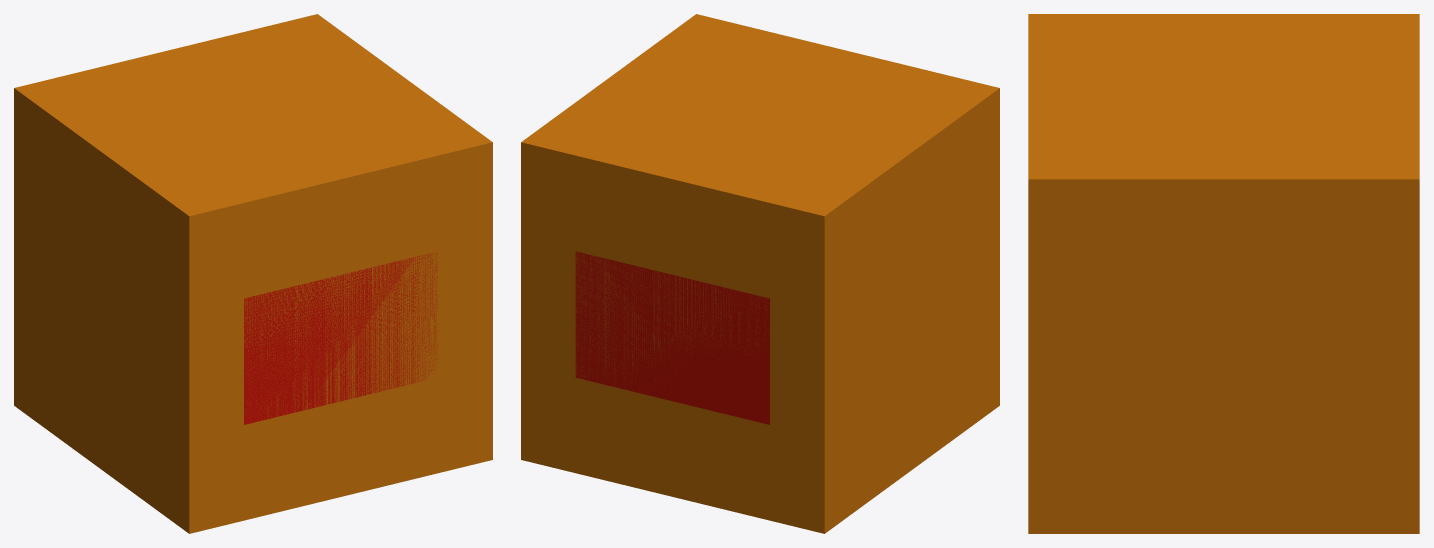
The model's file is environment.obj.
3 views of the same model, side by side, from view 1: azimuth 30°, elevation 25°; view 2: azimuth 150°, elevation 25°; view 3: azimuth 270°, elevation 25° (orthographic). The views are drawn at different scales.
Visible parts, largest first — view 1: spark, explosion; view 2: spark, explosion; view 3: spark.
Boxes of the visible parts, bbox=[...] form: spark: bbox=[14, 14, 492, 533]; explosion: bbox=[244, 253, 438, 424]; spark: bbox=[521, 14, 999, 533]; explosion: bbox=[575, 251, 769, 424]; spark: bbox=[1028, 14, 1419, 533].
Bounding box in the file's own units: 2 × 2 × 2.
